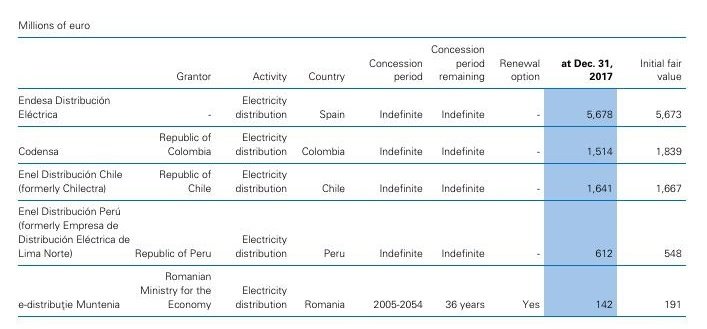table: (0, 0, 707, 329)
